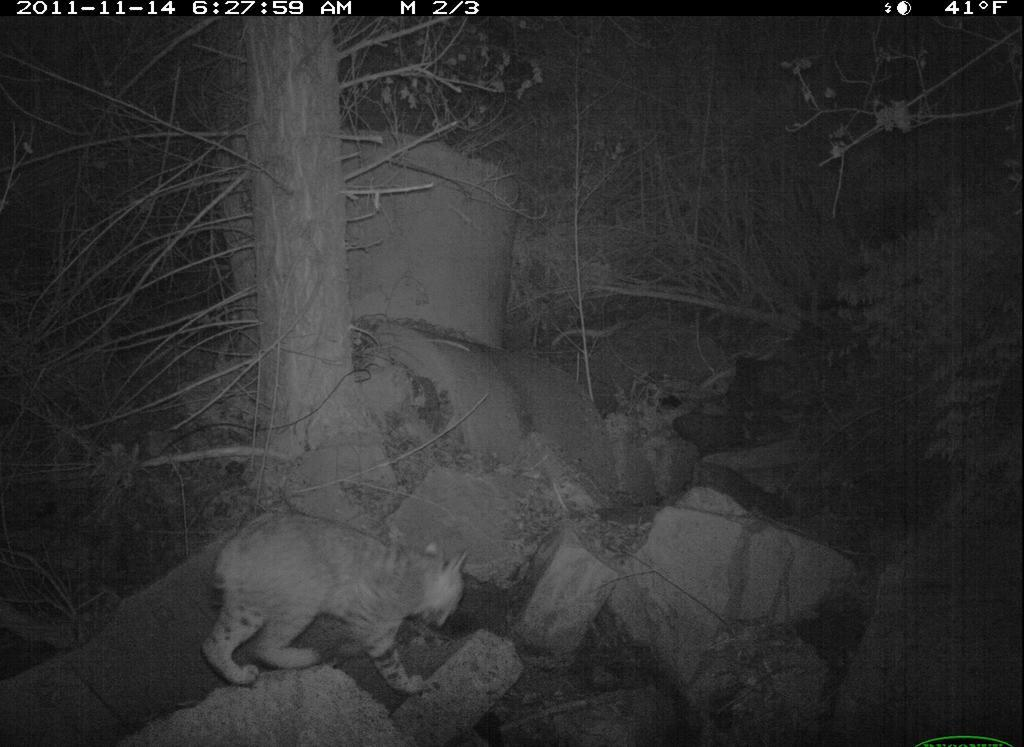bobcat: (191, 498, 502, 707)
